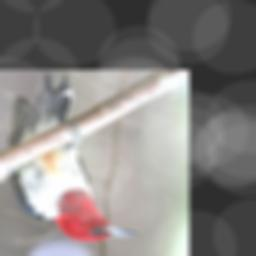Woodpecker: (8, 71, 139, 243)
